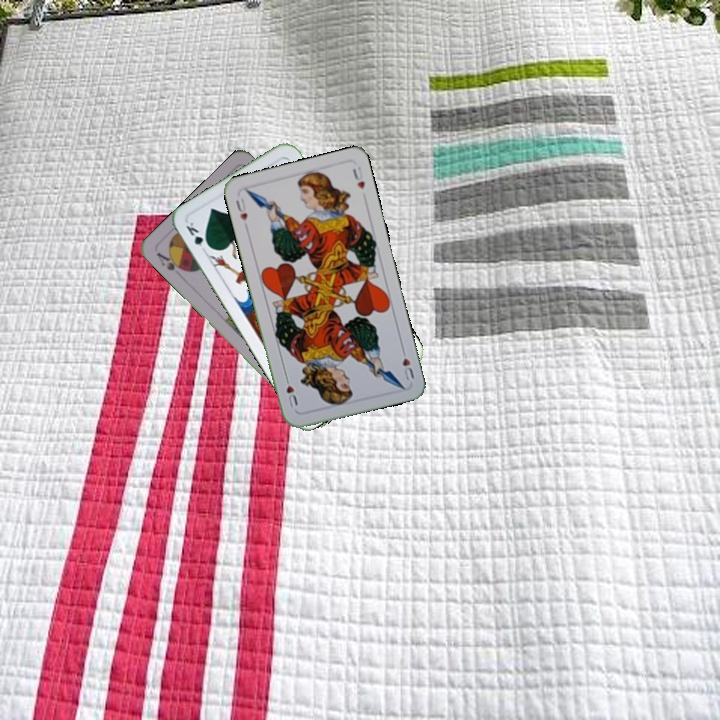GK: (182, 218, 213, 252)
HU: (398, 344, 417, 383), (232, 194, 250, 231)
SA: (152, 248, 189, 280)
